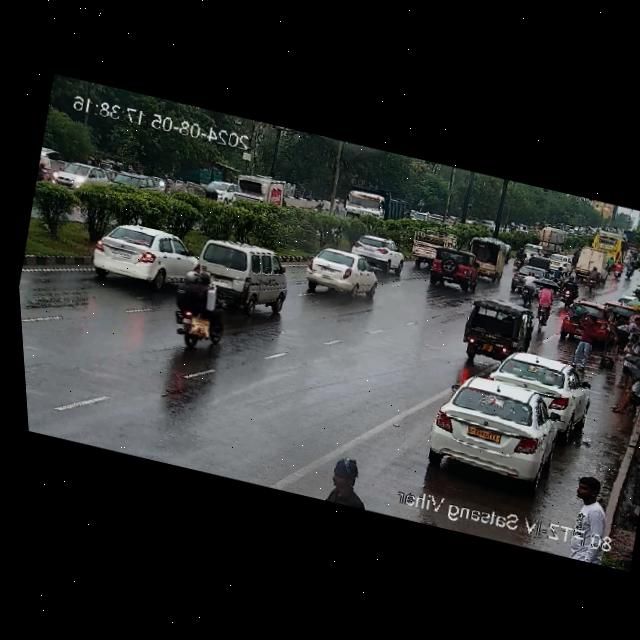car: (419, 371, 573, 492), (480, 344, 597, 429), (83, 215, 205, 295), (185, 231, 297, 318), (454, 295, 538, 364), (295, 240, 384, 303), (559, 294, 619, 347), (344, 230, 409, 275), (51, 157, 112, 196), (426, 245, 478, 290), (112, 171, 160, 198), (199, 176, 241, 206), (510, 262, 549, 294), (181, 180, 218, 202), (548, 251, 573, 274), (526, 253, 551, 270)
motorcycle: (159, 262, 243, 355), (531, 283, 558, 332), (516, 270, 542, 306), (558, 273, 581, 309), (584, 266, 600, 293), (510, 244, 526, 270), (499, 241, 513, 263), (611, 259, 623, 279), (624, 260, 636, 279), (605, 255, 616, 271)
person: (561, 471, 625, 560), (316, 450, 383, 512), (568, 312, 602, 370), (609, 374, 640, 422), (616, 328, 640, 390), (607, 313, 629, 359), (630, 314, 640, 329)
truck: (341, 183, 407, 230), (231, 171, 291, 210), (408, 227, 458, 273), (461, 234, 508, 280), (588, 225, 631, 267), (537, 226, 569, 255)
